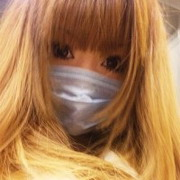face_mask: (34, 0, 135, 133)
